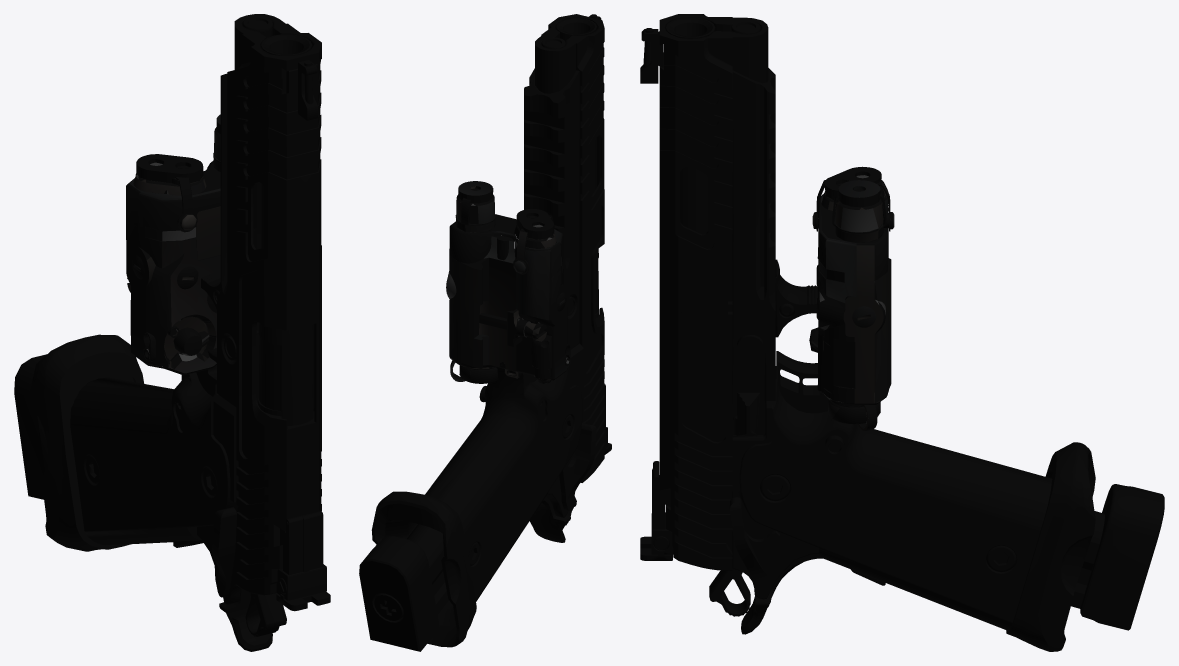
Rendered from SpringfieldProdigy__Laser_Rifle.fbx.
3 views of the same model, side by side, from view 1: azimuth 30°, elevation 25°; view 2: azimuth 150°, elevation 25°; view 3: azimuth 270°, elevation 25° (orthographic). The views are drawn at different scales.
Parts seen in each view (by area): view 1: asset_SpringfieldProdigy.001; view 2: asset_SpringfieldProdigy.001; view 3: asset_SpringfieldProdigy.001.
Boxes of the visible parts, x1,y1,x2,y2 form: asset_SpringfieldProdigy.001: (14,14,330,651); asset_SpringfieldProdigy.001: (359,14,611,651); asset_SpringfieldProdigy.001: (640,14,1164,651).
Bounding box in the file's own units: 0.0289 × 0.1332 × 0.1029.
